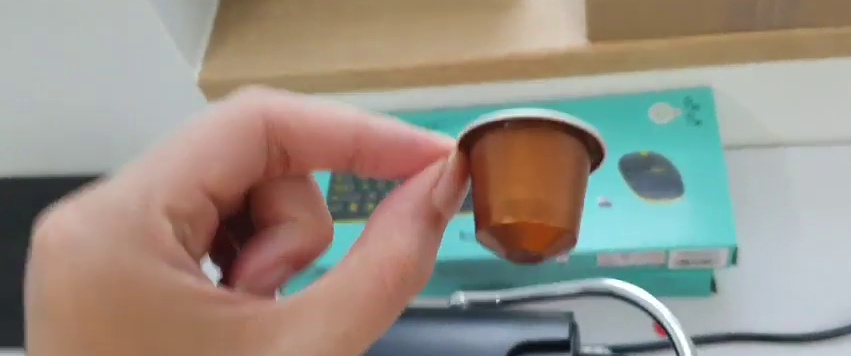capsule_3: (454, 107, 605, 267)
